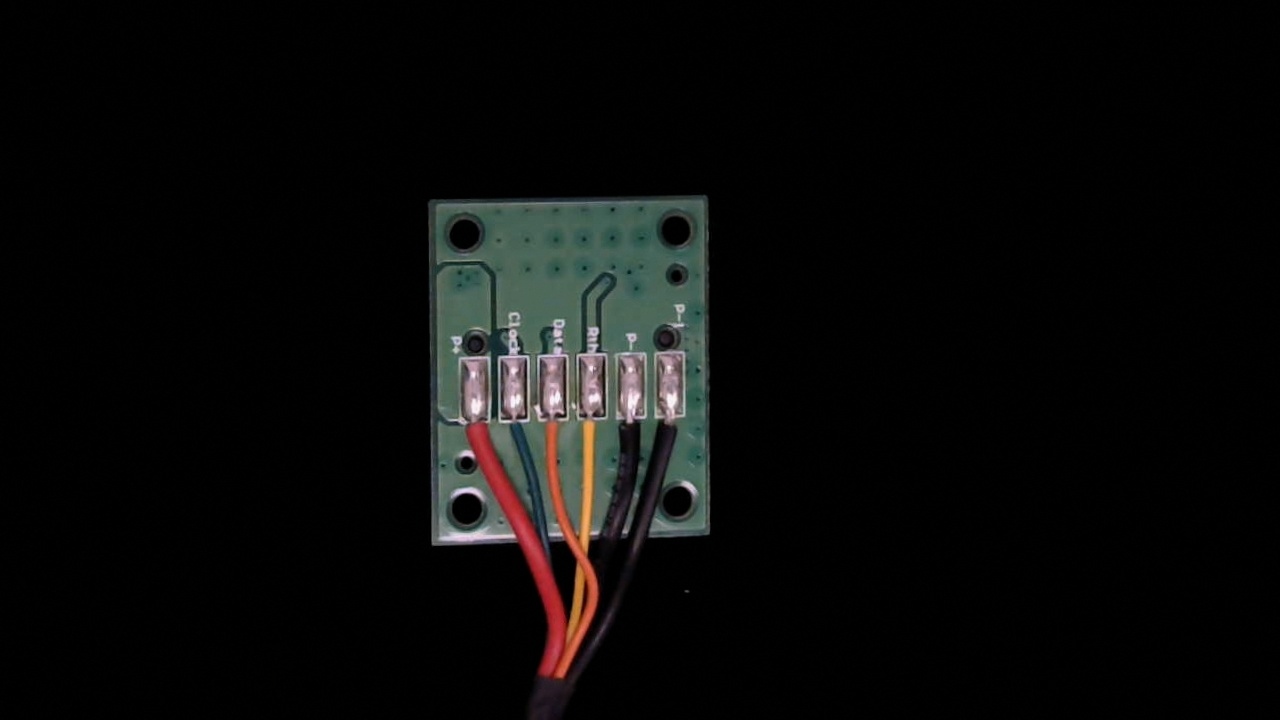Black: (612, 401, 647, 477)
Black1: (654, 402, 689, 472)
Green: (499, 401, 533, 461)
Orange: (537, 402, 570, 477)
Red: (456, 403, 492, 476)
Yellow: (573, 401, 609, 478)
